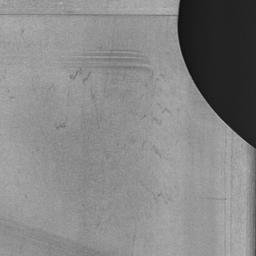Crescent gap: (177, 0, 256, 148)
